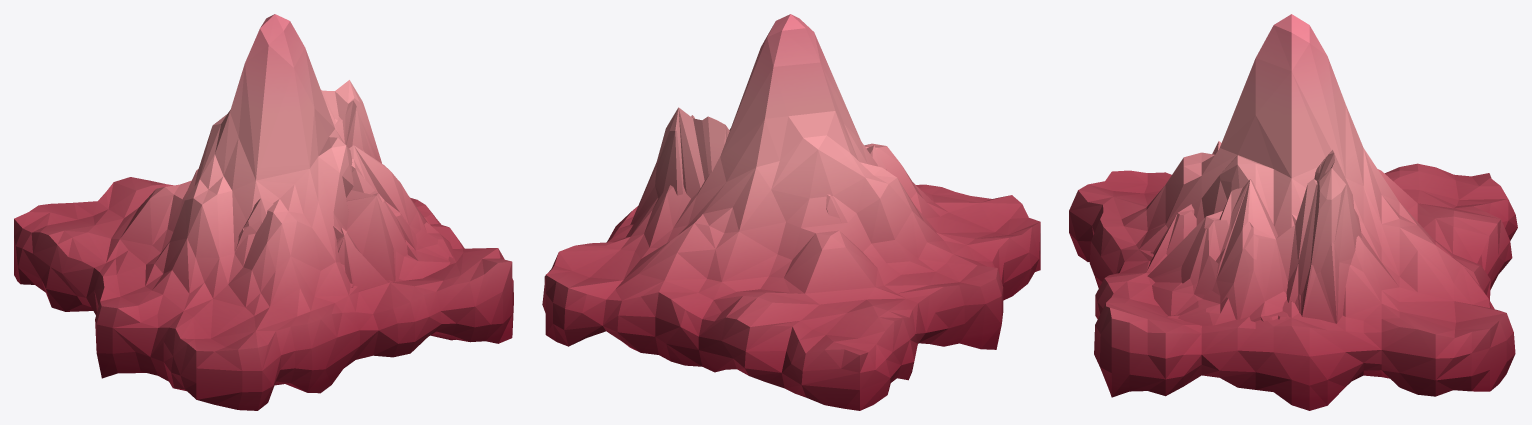
Rendered from Sunset_Mountain_001.FBX.
3 renders of one model, left to right at view 1: azimuth 30°, elevation 25°; view 2: azimuth 150°, elevation 25°; view 3: azimuth 270°, elevation 25°, orthographic. The views are drawn at different scales.
Visible parts, largest first — view 1: Sunset_Mountain_001; view 2: Sunset_Mountain_001; view 3: Sunset_Mountain_001.
Boxes of the visible parts, <box> form: Sunset_Mountain_001: <box>14,14,513,410</box>; Sunset_Mountain_001: <box>542,14,1040,410</box>; Sunset_Mountain_001: <box>1069,14,1517,410</box>.
Bounding box in the file's own units: 5396 × 4311 × 5506.
1 material, 1 textured.
